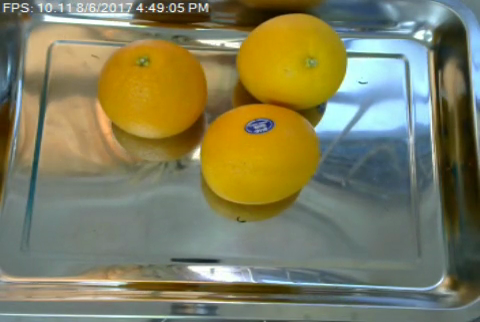Orange: (199, 100, 323, 203), (97, 39, 207, 138), (236, 13, 347, 106)
